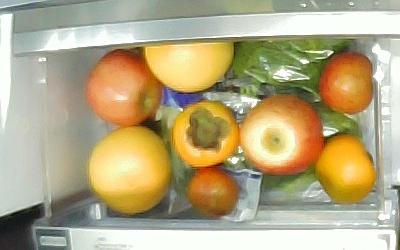apple: (239, 94, 324, 176), (86, 49, 162, 125)
grapefruit: (89, 125, 170, 214), (144, 42, 234, 92)
persimmon: (172, 100, 239, 167), (316, 133, 377, 204)
prune: (319, 52, 373, 113), (186, 168, 239, 216)
